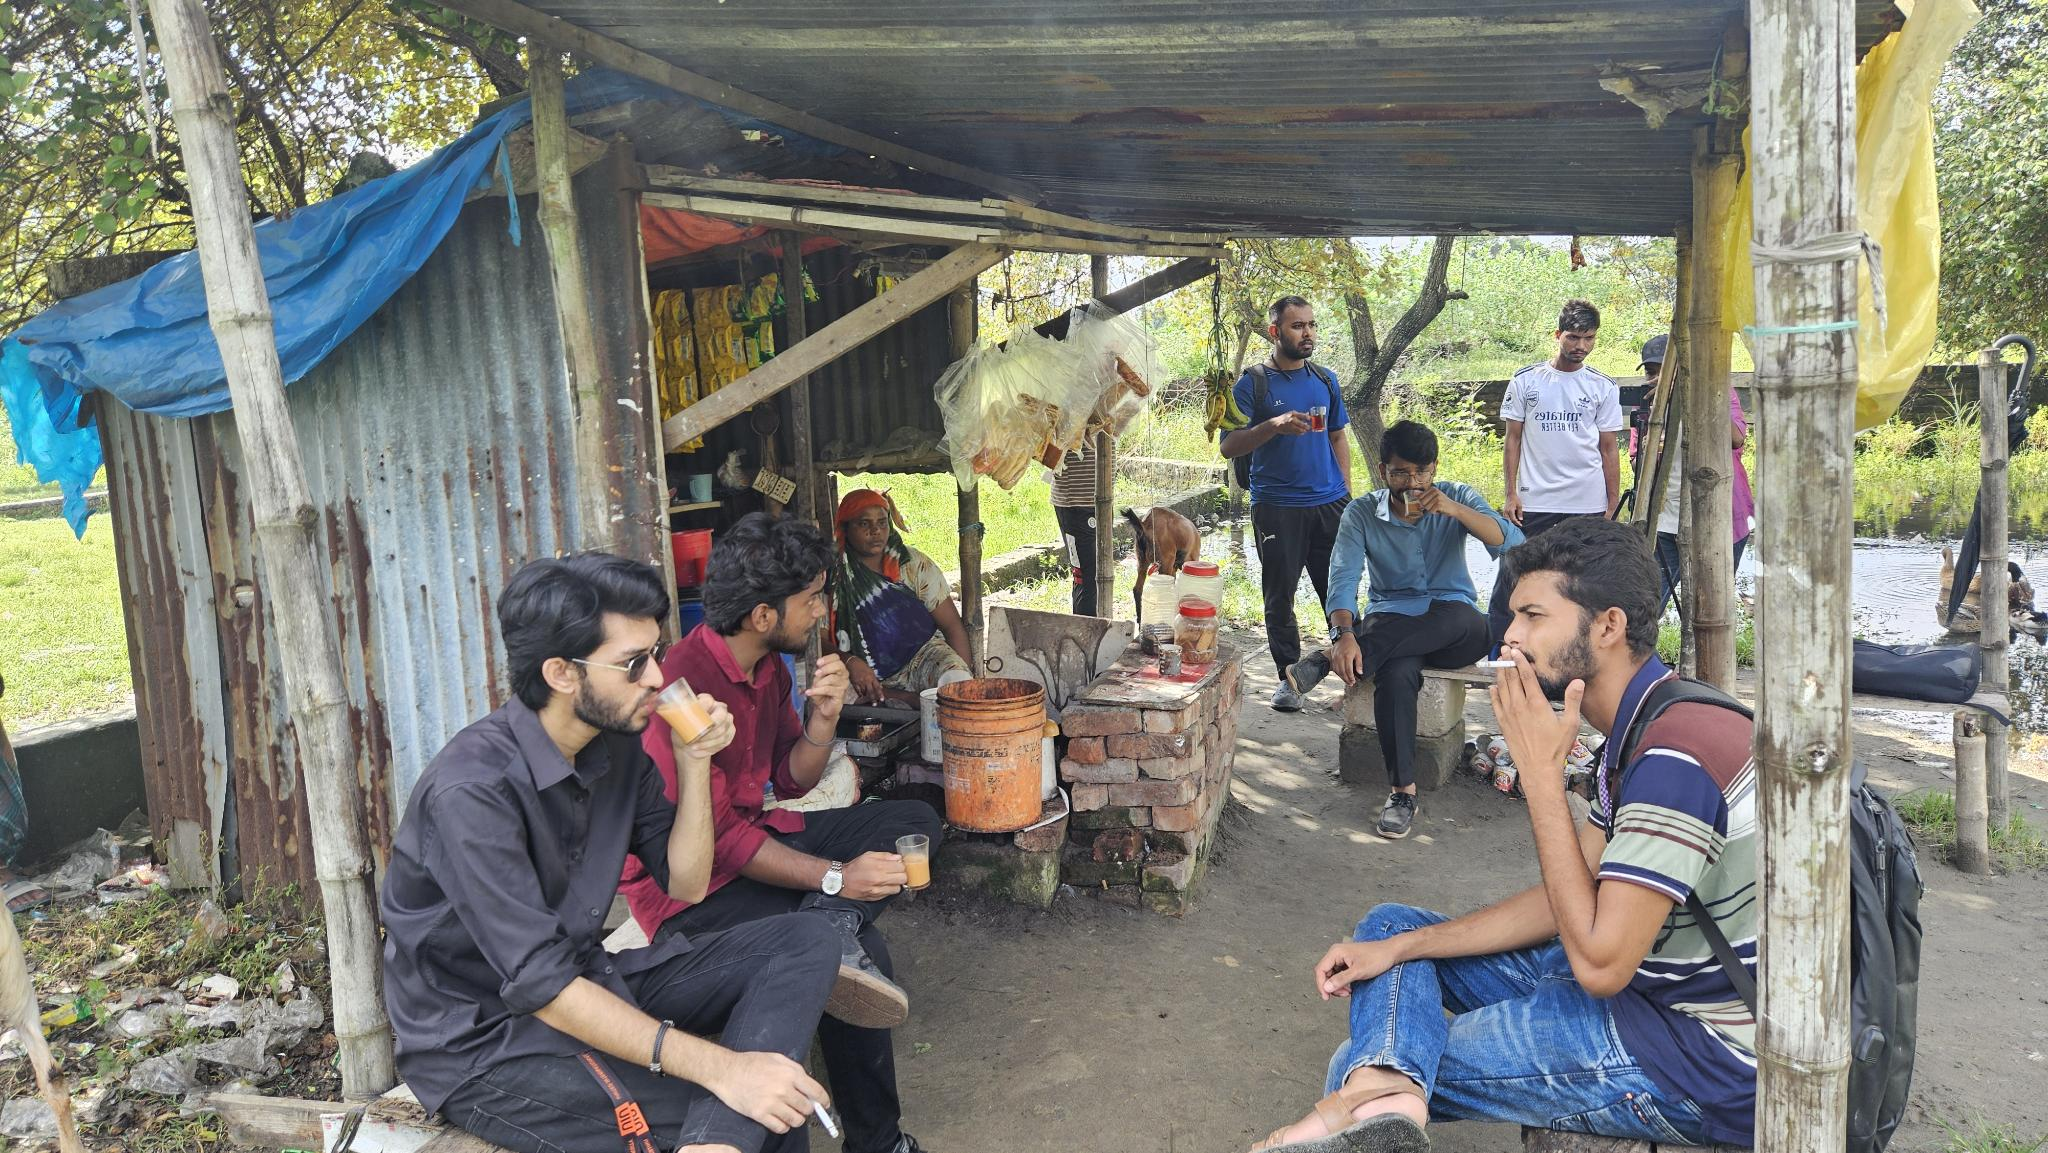cigarette: (803, 1093, 841, 1139), (1474, 658, 1519, 669)
nonSmoker: (663, 517, 944, 1028), (1286, 419, 1525, 838), (1220, 295, 1350, 710), (828, 488, 969, 709), (1499, 298, 1623, 539)
smoker: (1248, 522, 1757, 1153), (385, 551, 850, 1153)
